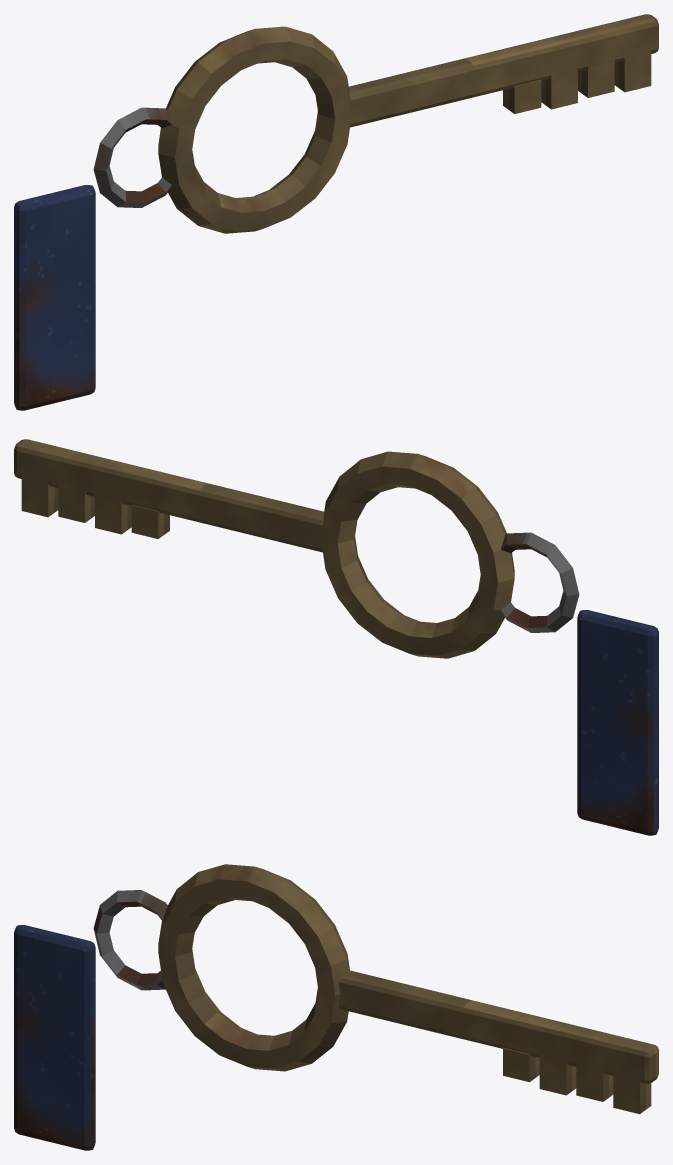
File: G03_key_v3_blue_tag.glb
3 views of the same model, one above another, from view 1: azimuth 30°, elevation 25°; view 2: azimuth 150°, elevation 25°; view 3: azimuth 330°, elevation 25° (orthographic).
Visible parts, largest first — view 1: G03_key_v3_blue_tag; view 2: G03_key_v3_blue_tag; view 3: G03_key_v3_blue_tag.
Part boxes in pixels (x1=…): G03_key_v3_blue_tag: x1=14, y1=14, x2=658, y2=410; G03_key_v3_blue_tag: x1=14, y1=439, x2=658, y2=835; G03_key_v3_blue_tag: x1=14, y1=864, x2=658, y2=1150.
Size of the model in its own units: 0.1 by 0.0484 by 0.00451.
3 materials, 3 textured.
